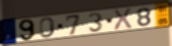0: (38, 17, 56, 39)
3: (87, 11, 104, 33)
7: (65, 14, 83, 36)
8: (136, 7, 153, 27)
9: (17, 19, 37, 41)
X: (112, 8, 134, 32)
